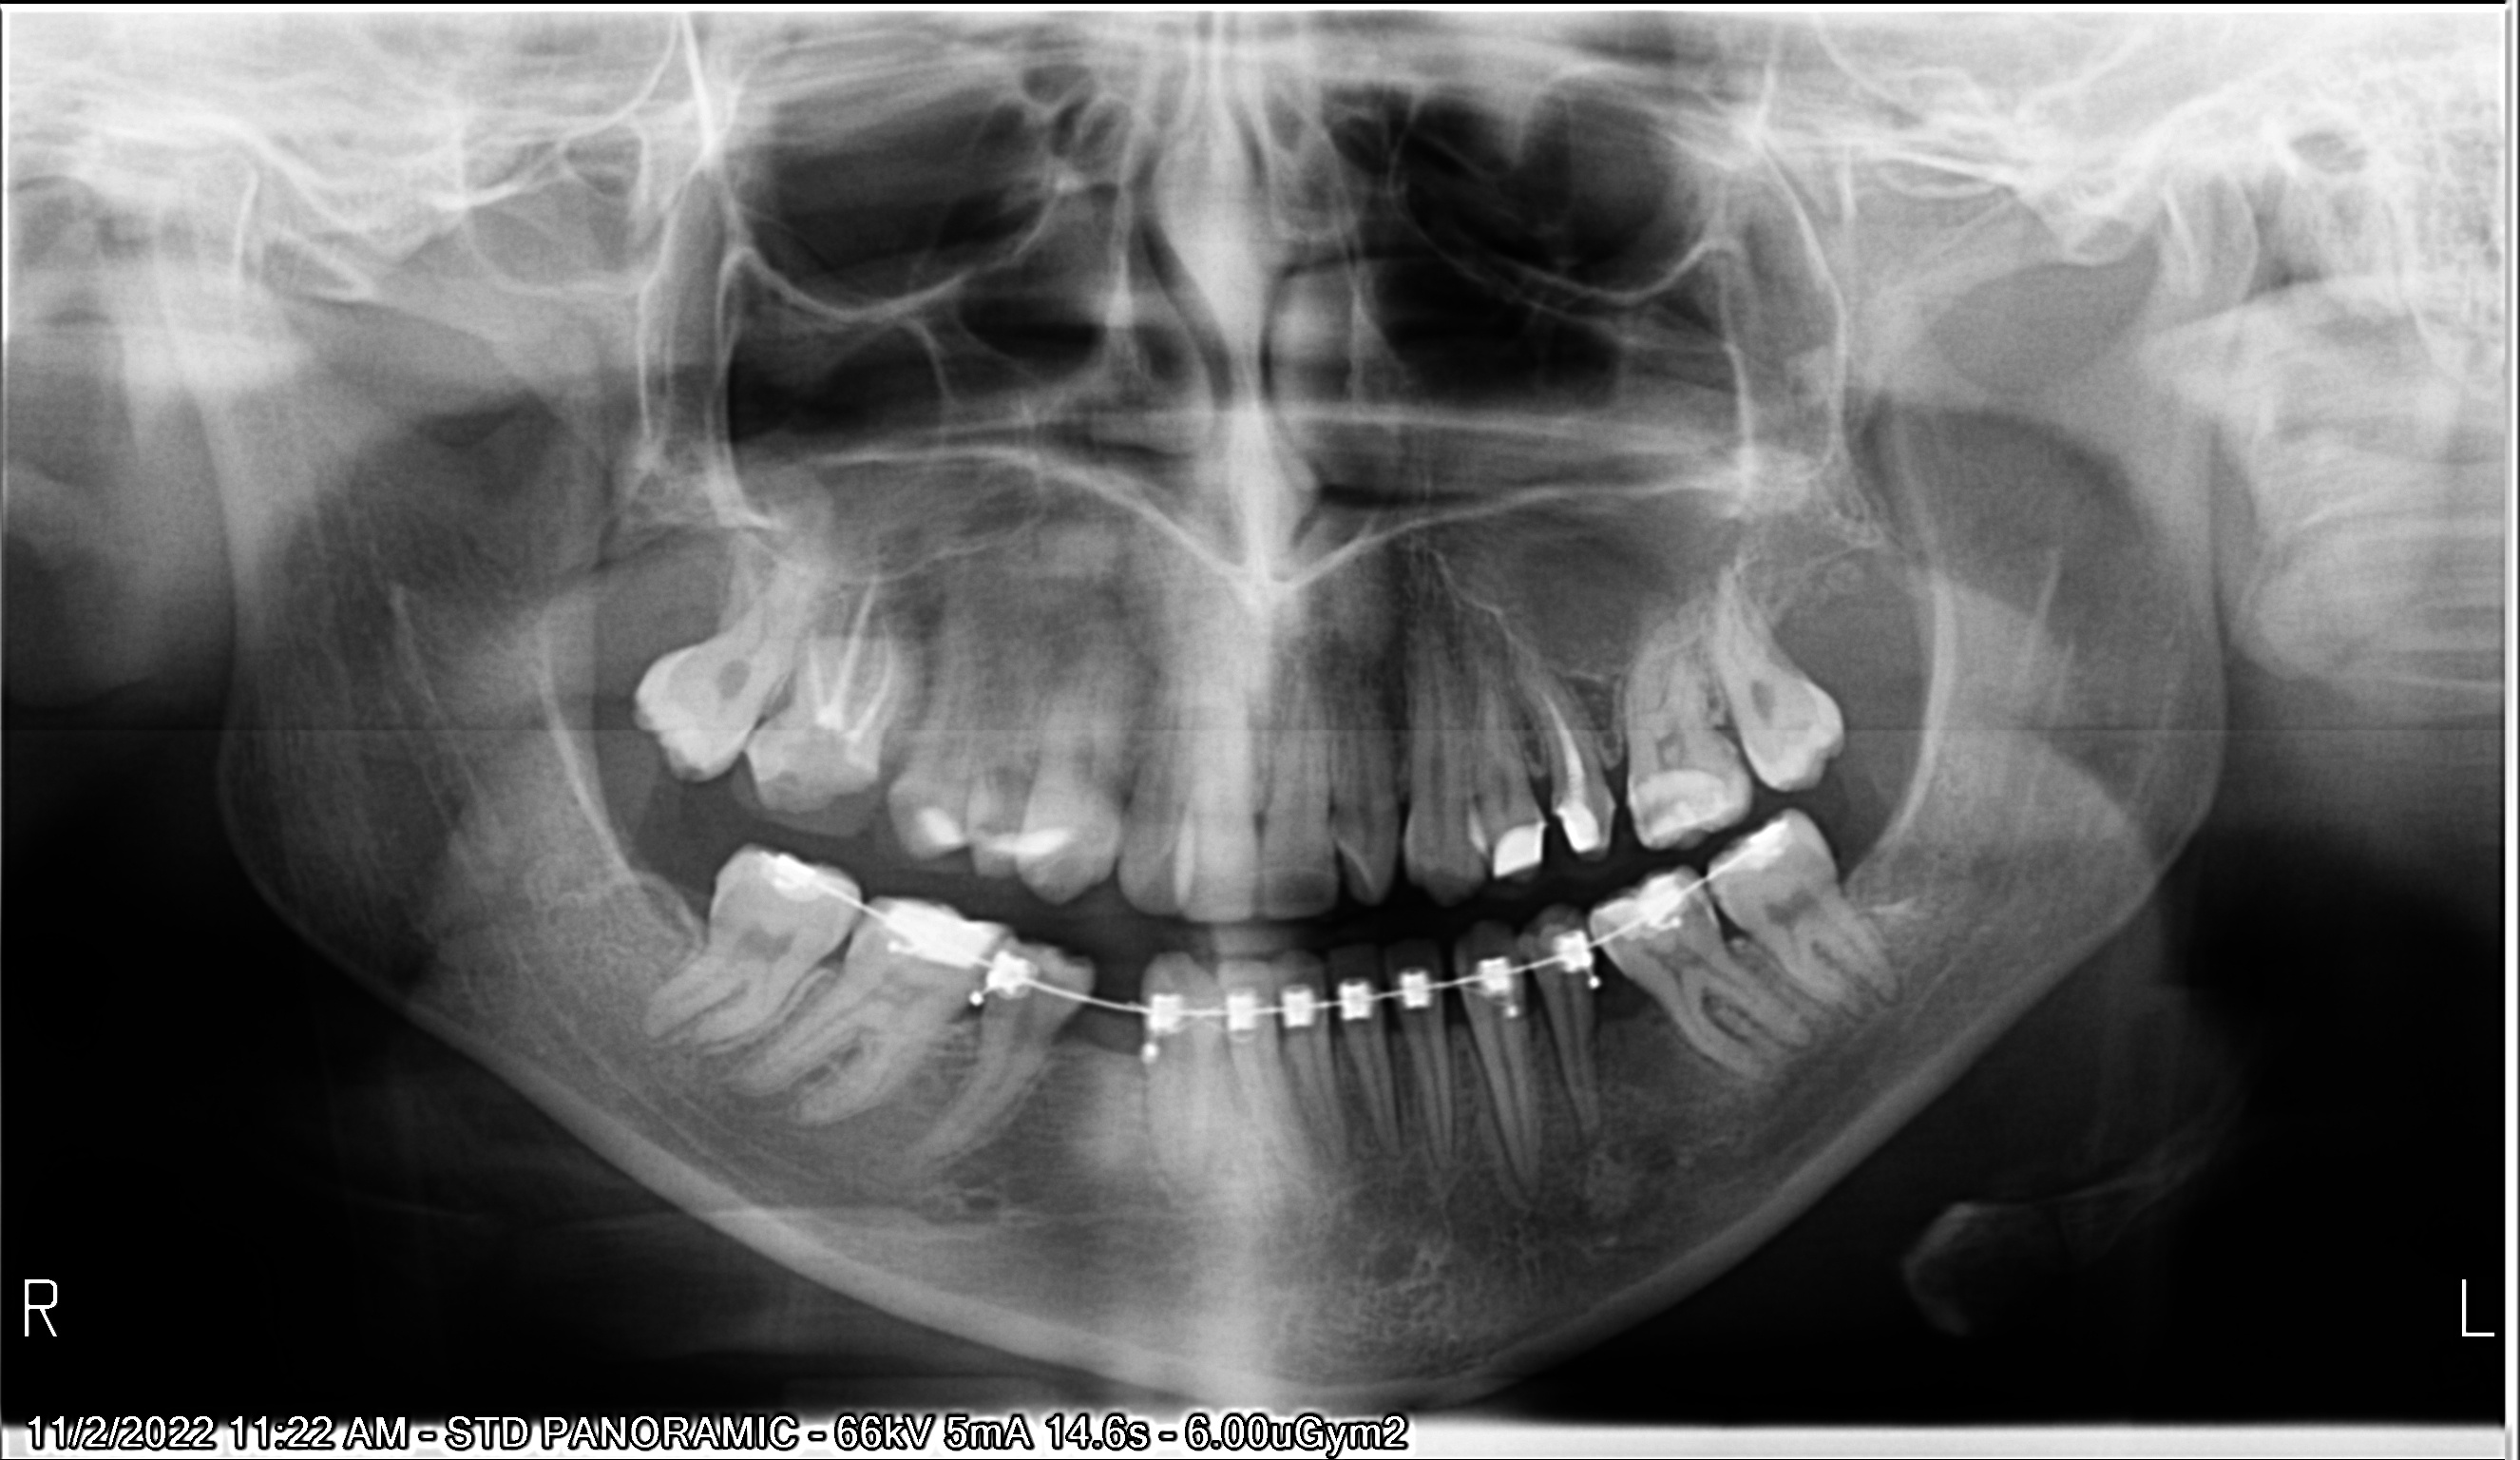CAR: (735, 714, 879, 831), (1685, 874, 1730, 926), (1702, 740, 1751, 779)
END: (785, 567, 934, 728), (1521, 648, 1589, 805)
OBT: (1610, 746, 1749, 871), (1469, 813, 1558, 886), (1765, 713, 1839, 787), (1547, 798, 1610, 864)
ORD: (750, 817, 1817, 1069)
